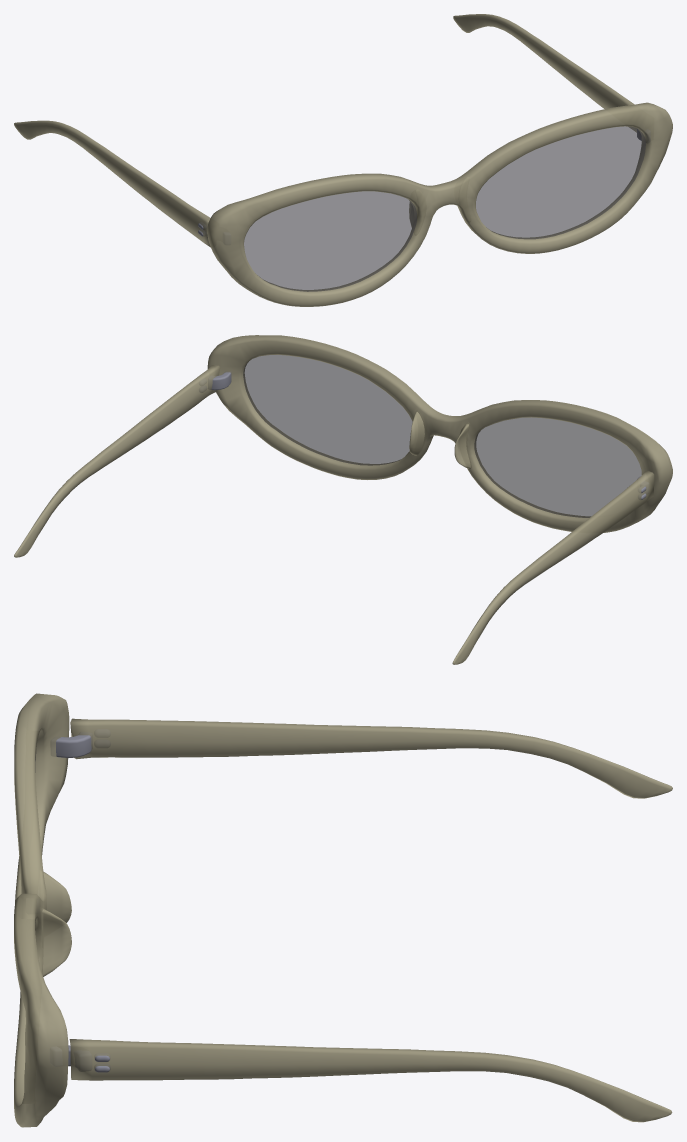
File: horchata.glb
3 views of the same model, one above another, from view 1: azimuth 30°, elevation 25°; view 2: azimuth 150°, elevation 25°; view 3: azimuth 270°, elevation 25° (orthographic). The views are drawn at different scales.
Visible parts, largest first — view 1: model_6.001; view 2: model_6.001; view 3: model_6.001.
Part boxes in pixels (x1,y1,x2,y2): model_6.001: [14, 14, 672, 306]; model_6.001: [14, 335, 672, 664]; model_6.001: [14, 693, 672, 1127].
Size of the model in its own units: 2.21 by 0.5738 by 1.81.
